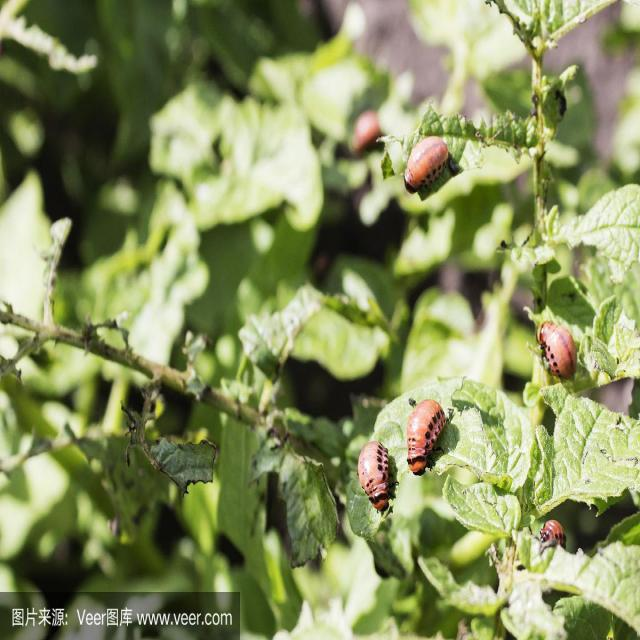ShuCaiHuaBanChong-Larva-: (386, 130, 472, 214), (531, 302, 585, 396), (344, 432, 398, 518), (401, 389, 447, 473), (529, 517, 575, 559)
